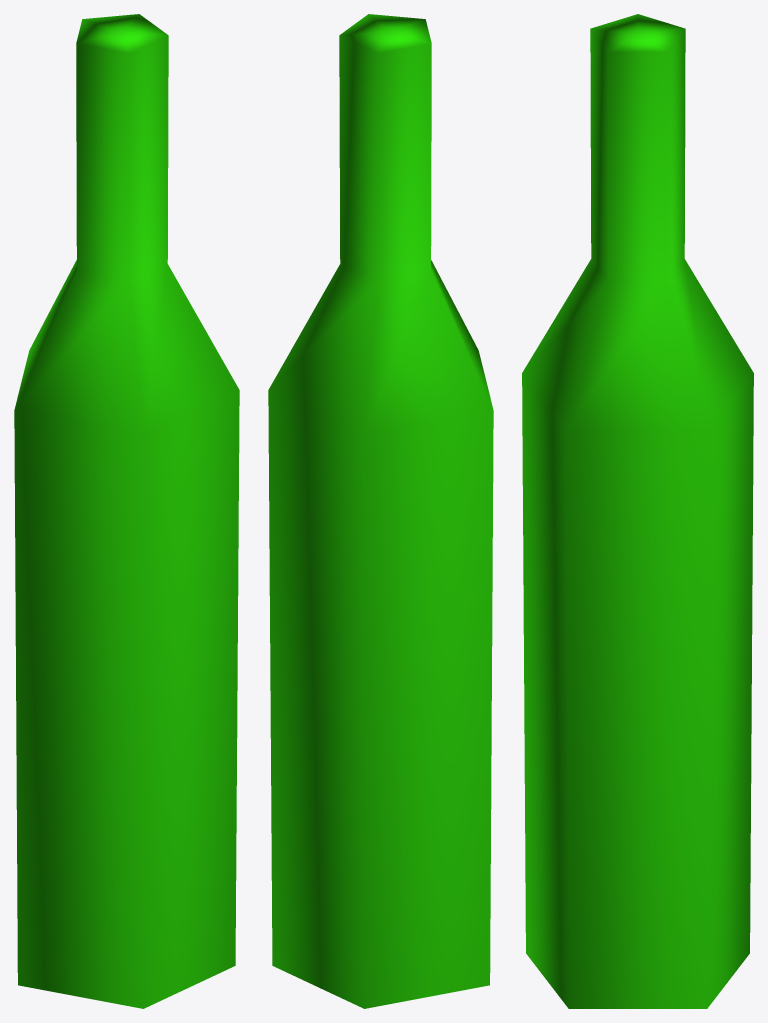
File: Bottle_Wine_02_Lod1.fbx
The picture shows the model from 3 angles, left to right: view 1: azimuth 30°, elevation 25°; view 2: azimuth 150°, elevation 25°; view 3: azimuth 270°, elevation 25°; orthographic projection.
Parts seen in each view (by area): view 1: Bottle_Wine_02_Lod1; view 2: Bottle_Wine_02_Lod1; view 3: Bottle_Wine_02_Lod1.
Boxes of the visible parts, <box> form: Bottle_Wine_02_Lod1: <box>14,14,239,1008</box>; Bottle_Wine_02_Lod1: <box>268,14,493,1008</box>; Bottle_Wine_02_Lod1: <box>522,14,753,1008</box>.
Bounding box in the file's own units: 6.25 × 29.24 × 6.57.
